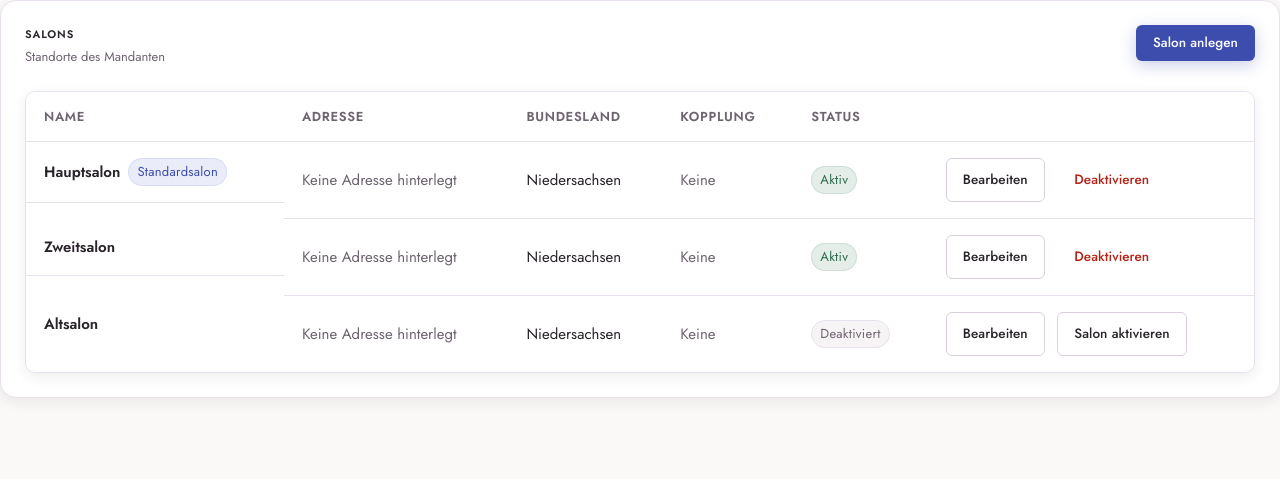
Test: SalonsSection › deactivate and activate › a missing salon (404) lands in the notice as SALON_NOT_FOUND
Click the button "Salon aktivieren" at {"x": 1122, "y": 334}, box [1057,312,1187,356]
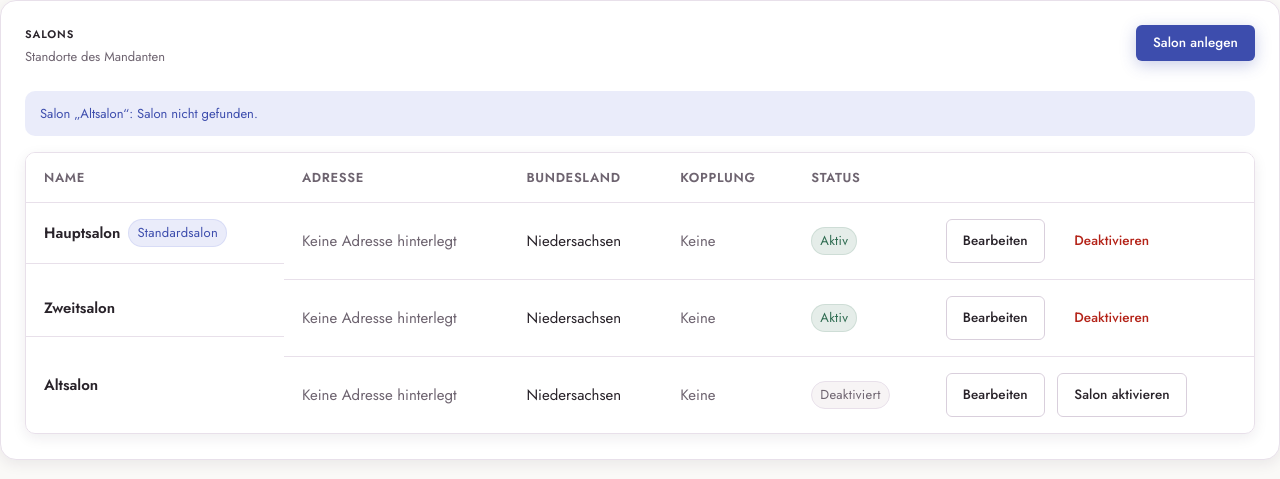
Result: the message "Salon „Altsalon“: Salon nicht gefunden." is shown at [25,91,1255,136]
